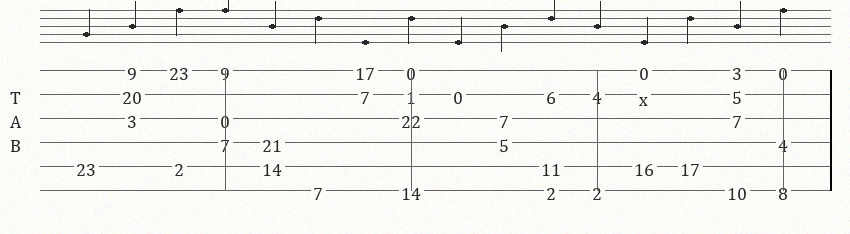0: (220, 110, 234, 126), (406, 62, 420, 78), (453, 86, 467, 102), (639, 62, 653, 78), (778, 62, 792, 78)
1: (406, 86, 420, 102)
10: (727, 182, 751, 198)
11: (541, 158, 565, 174)
14: (262, 158, 286, 174), (401, 182, 425, 198)
16: (634, 158, 658, 174)
17: (355, 62, 379, 79), (680, 158, 704, 175)
2: (174, 158, 188, 174), (546, 182, 560, 198), (592, 182, 606, 198)
20: (122, 86, 146, 102)
21: (262, 134, 286, 150)
22: (401, 110, 425, 126)
23: (76, 158, 100, 174), (169, 62, 193, 78)
3: (127, 110, 141, 126), (732, 62, 746, 78)
4: (592, 86, 606, 102), (778, 134, 792, 150)
5: (499, 134, 513, 151), (732, 86, 746, 103)
6: (546, 86, 560, 102)
7: (220, 134, 234, 151), (313, 182, 327, 199), (360, 86, 374, 103), (499, 110, 513, 127), (732, 110, 746, 127)
8: (778, 182, 792, 198)
9: (127, 62, 141, 78), (220, 62, 234, 78)
x: (639, 88, 652, 101)
